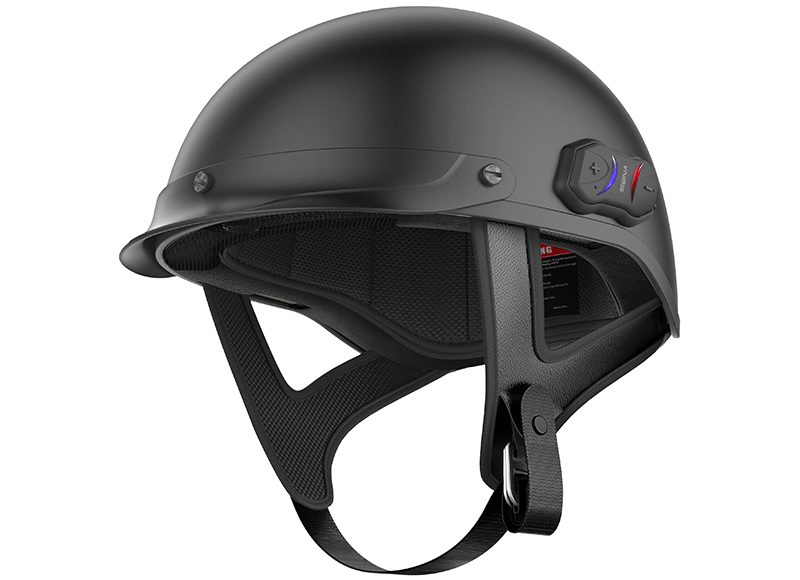with_helmet: (116, 4, 681, 491)
